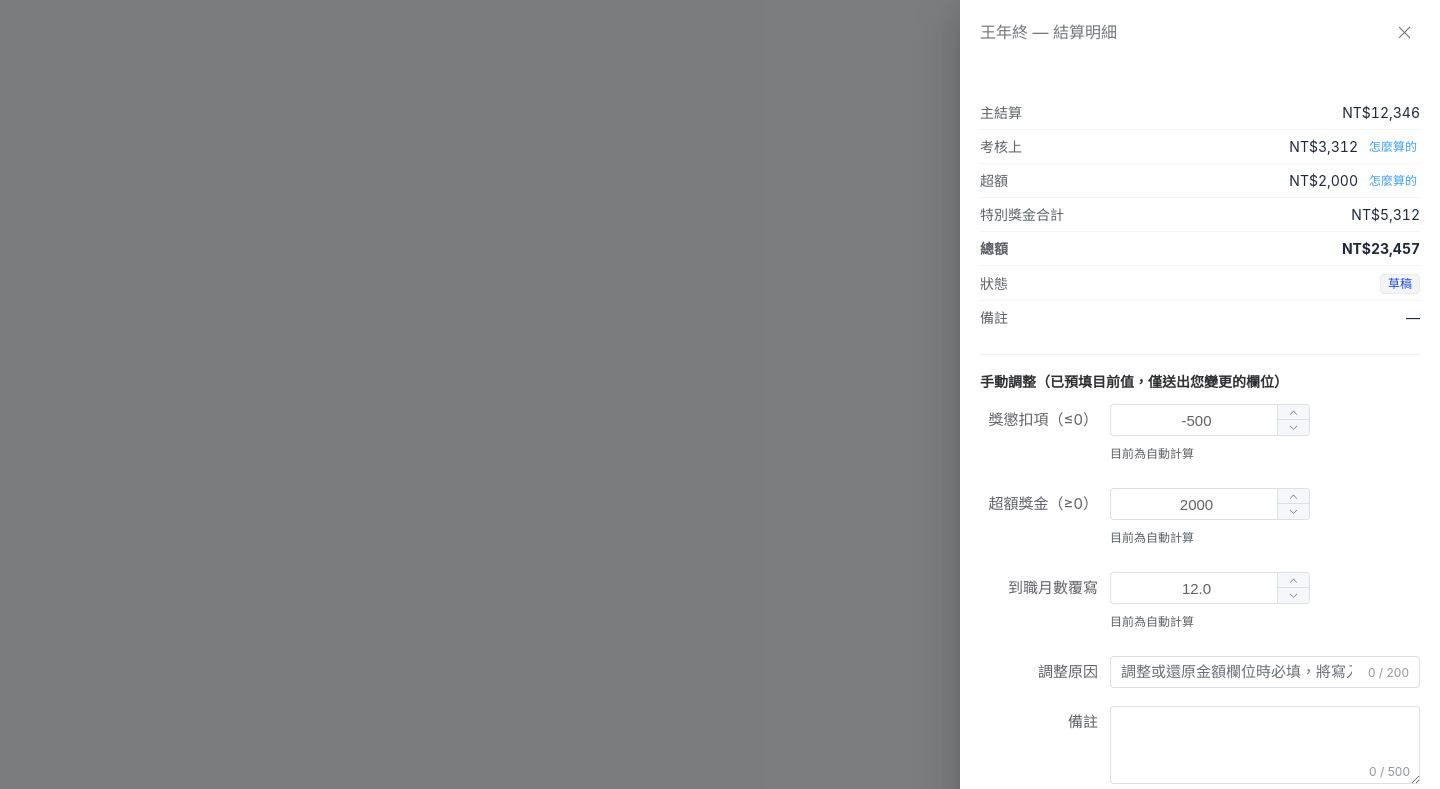
Test: GridRowDetailDrawer（DOM 渲染：怎麼算的 provenance 下鑽） › 點擊「怎麼算的」：呼叫 getProvenance 並渲染 formula_summary + 逐筆 source_records + 金額
Click the button with test id "provenance-toggle-APPRAISAL_HALF_BONUS_FIRST". click: (1393, 146)
box: [1366,138,1420,156]
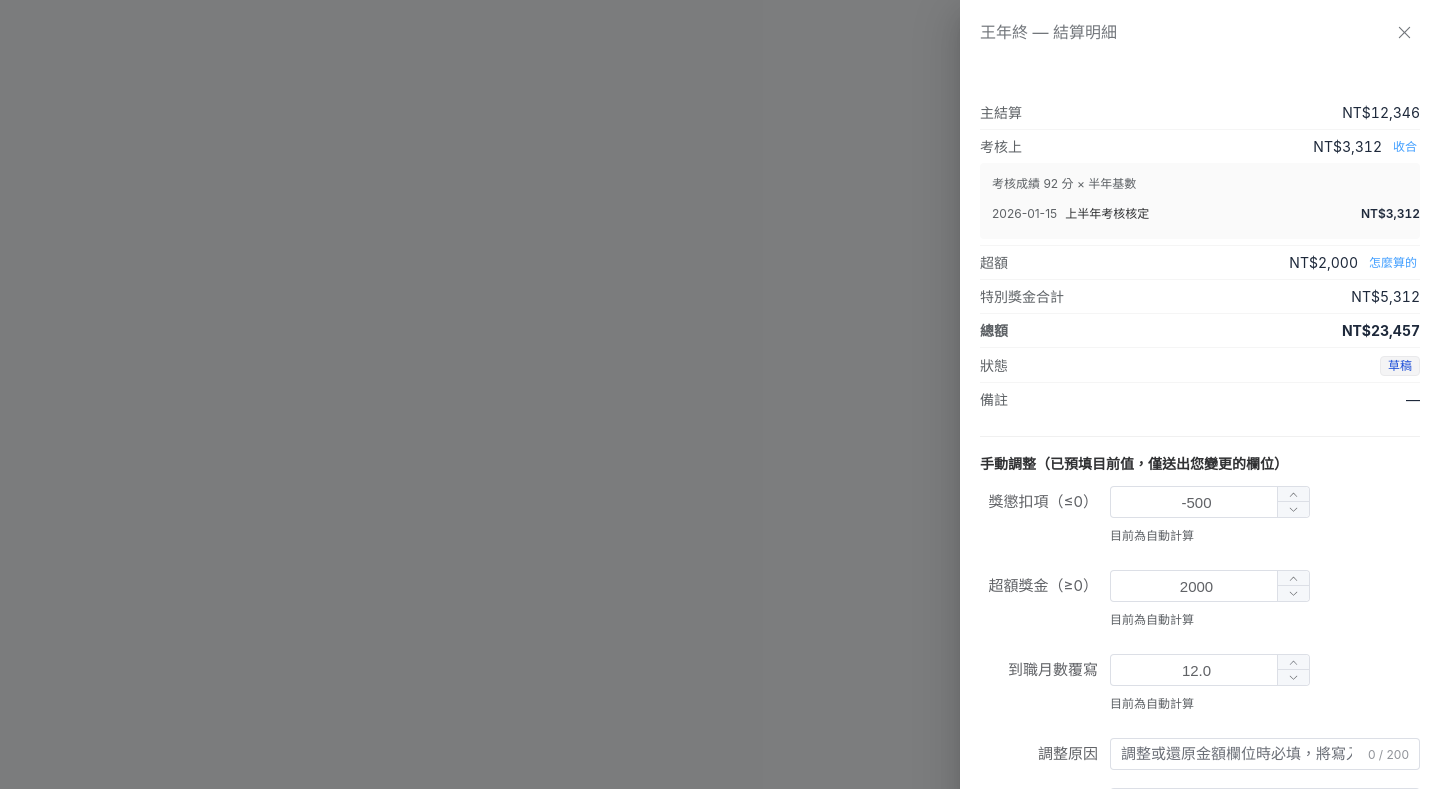
Result: the element with test id "provenance-panel-APPRAISAL_HALF_BONUS_FIRST" is shown at [980,163,1420,239]
Result: the text with test id "provenance-summary-APPRAISAL_HALF_BONUS_FIRST" reads "考核成績 92 分 × 半年基數" at [992,176,1136,191]
Result: the list with test id "provenance-records-APPRAISAL_HALF_BONUS_FIRST" shows "2026-01-15" at [992,206,1057,221]
